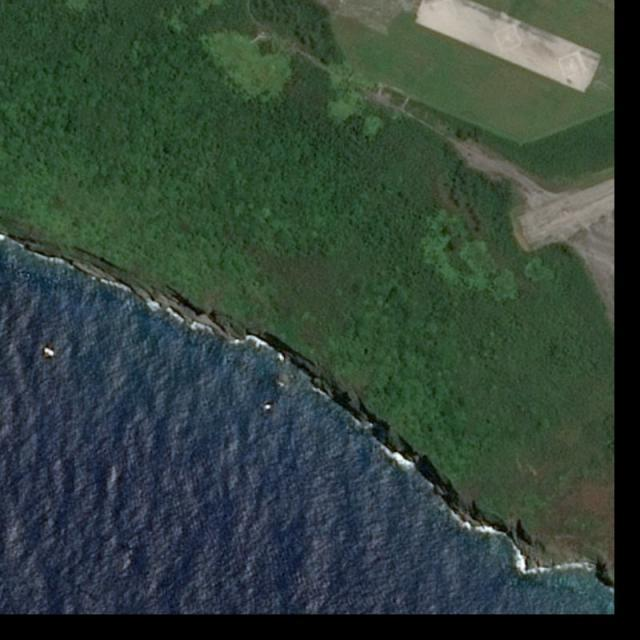ship: (42, 346, 55, 358)
